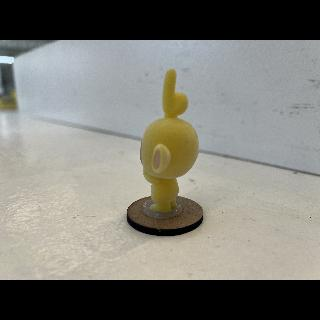teletubby: (140, 69, 199, 213)
